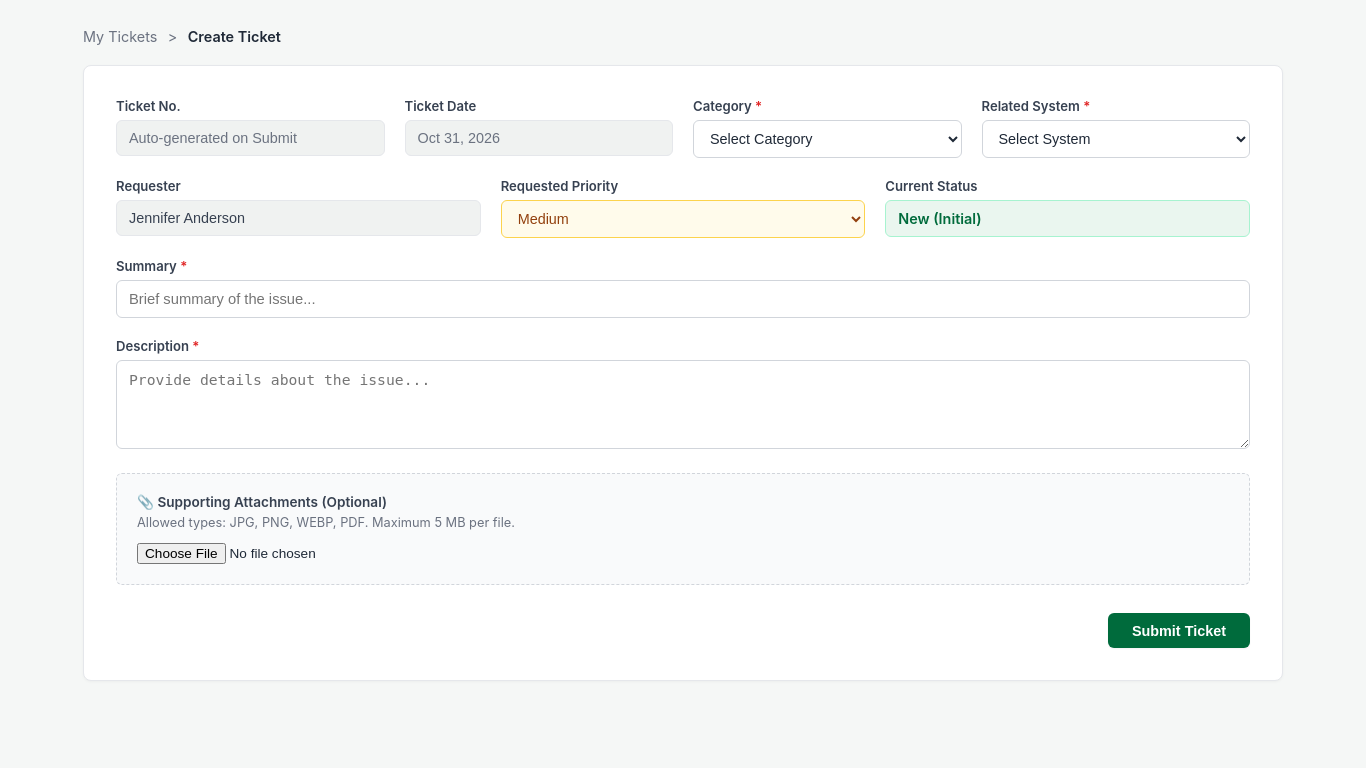
it: CreateTicket Component Unit Tests (FR-02, BR-01, BR-02) › validates required fields on submit without input
The width and height of the screenshot is (1366, 768).
Click the button "Submit Ticket".
click(1179, 630)  # box [1108, 613, 1250, 648]
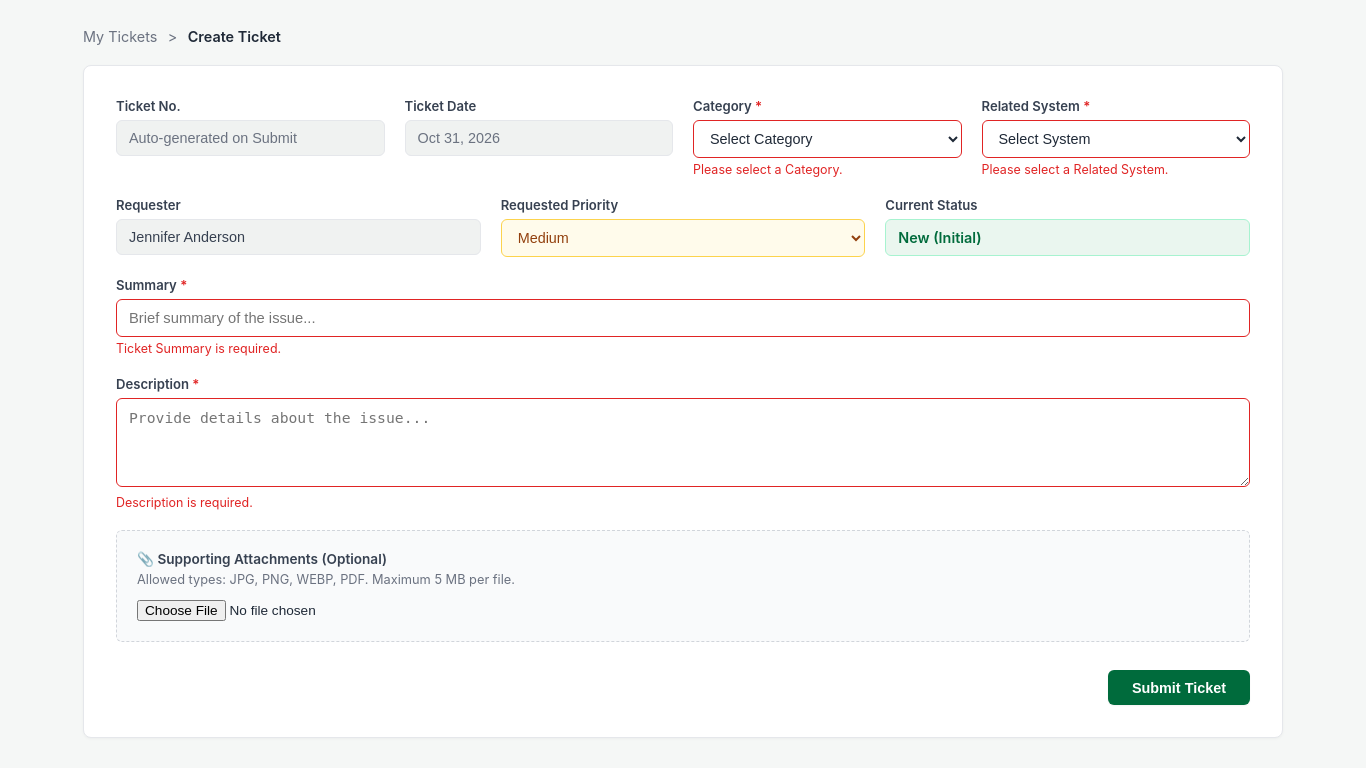
Expected: the text "Ticket Summary is required." is shown, [116, 340, 281, 356]
